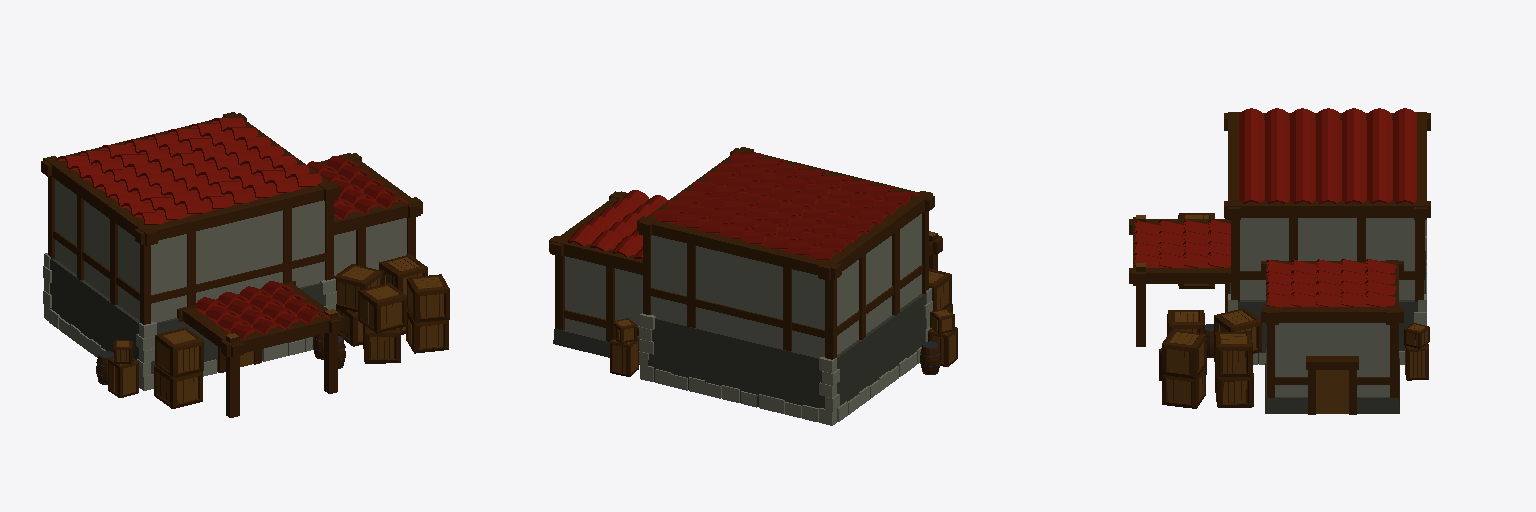
File: Storage_SecondAge_Level3_Cube.obj
3 views of the same model, side by side, from view 1: azimuth 30°, elevation 25°; view 2: azimuth 150°, elevation 25°; view 3: azimuth 270°, elevation 25° (orthographic).
Visible parts, largest first — view 1: Storage_SecondAge_Level3_Cube.186; view 2: Storage_SecondAge_Level3_Cube.186; view 3: Storage_SecondAge_Level3_Cube.186.
Part boxes in pixels (x1,y1,x2,y2): Storage_SecondAge_Level3_Cube.186: (41, 112, 449, 417); Storage_SecondAge_Level3_Cube.186: (549, 147, 957, 425); Storage_SecondAge_Level3_Cube.186: (1129, 108, 1430, 414).
Bounding box in the file's own units: 1.81 × 0.8991 × 1.43.